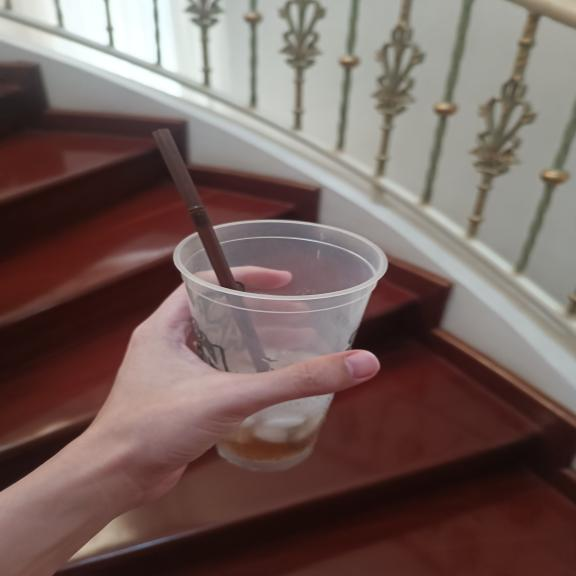Plastik: (154, 130, 387, 372)
